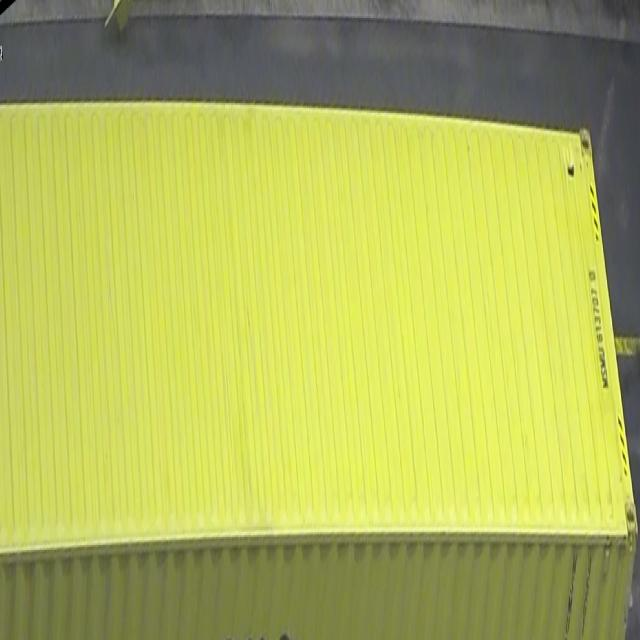hole: (565, 153, 580, 193)
